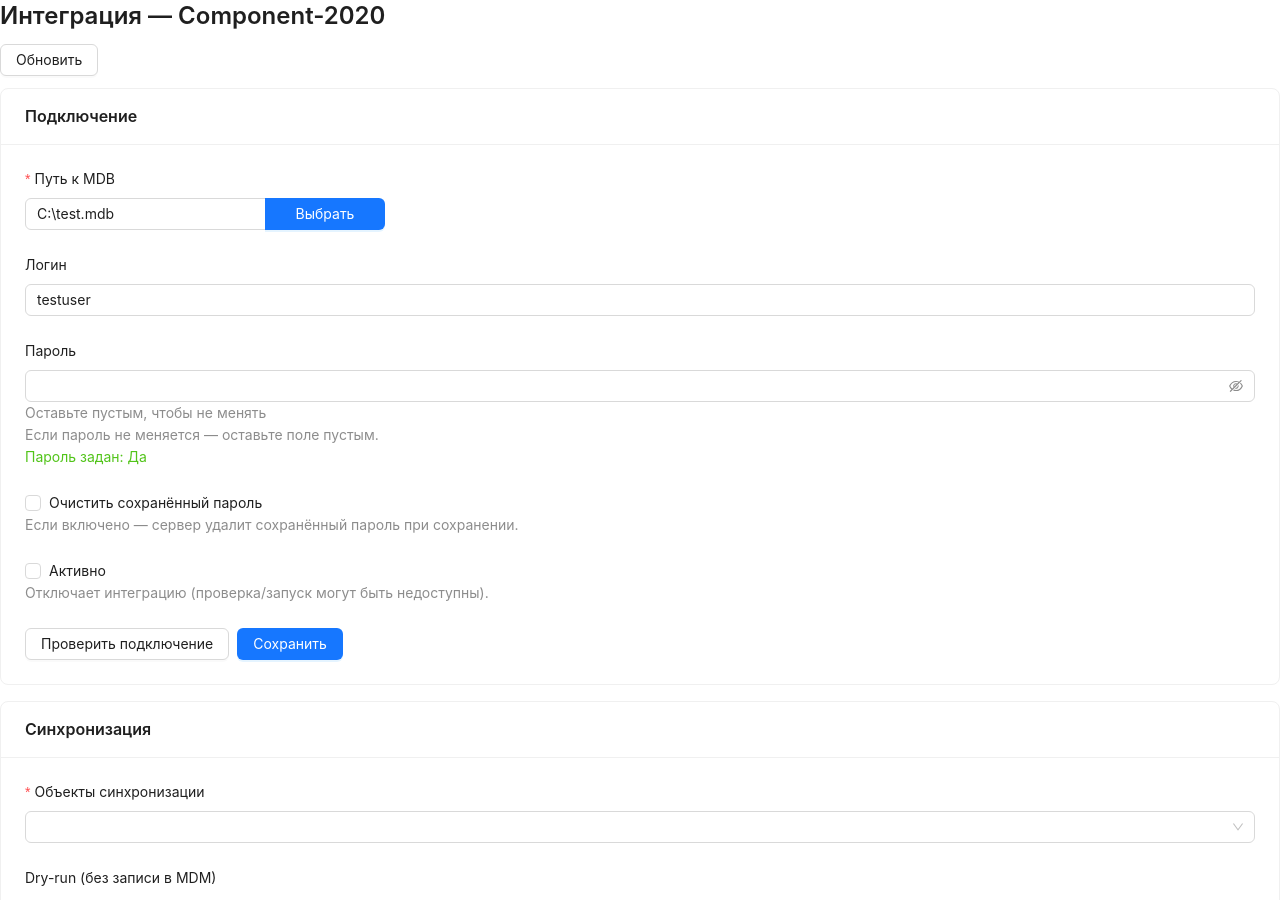
Test: Component2020SettingsPage › должна устанавливать путь к файлу при выборе через file picker
Click the button with test id "component2020-mdb-path-browse".
click(325, 214)  # box x1=265 y1=198 x2=385 y2=230
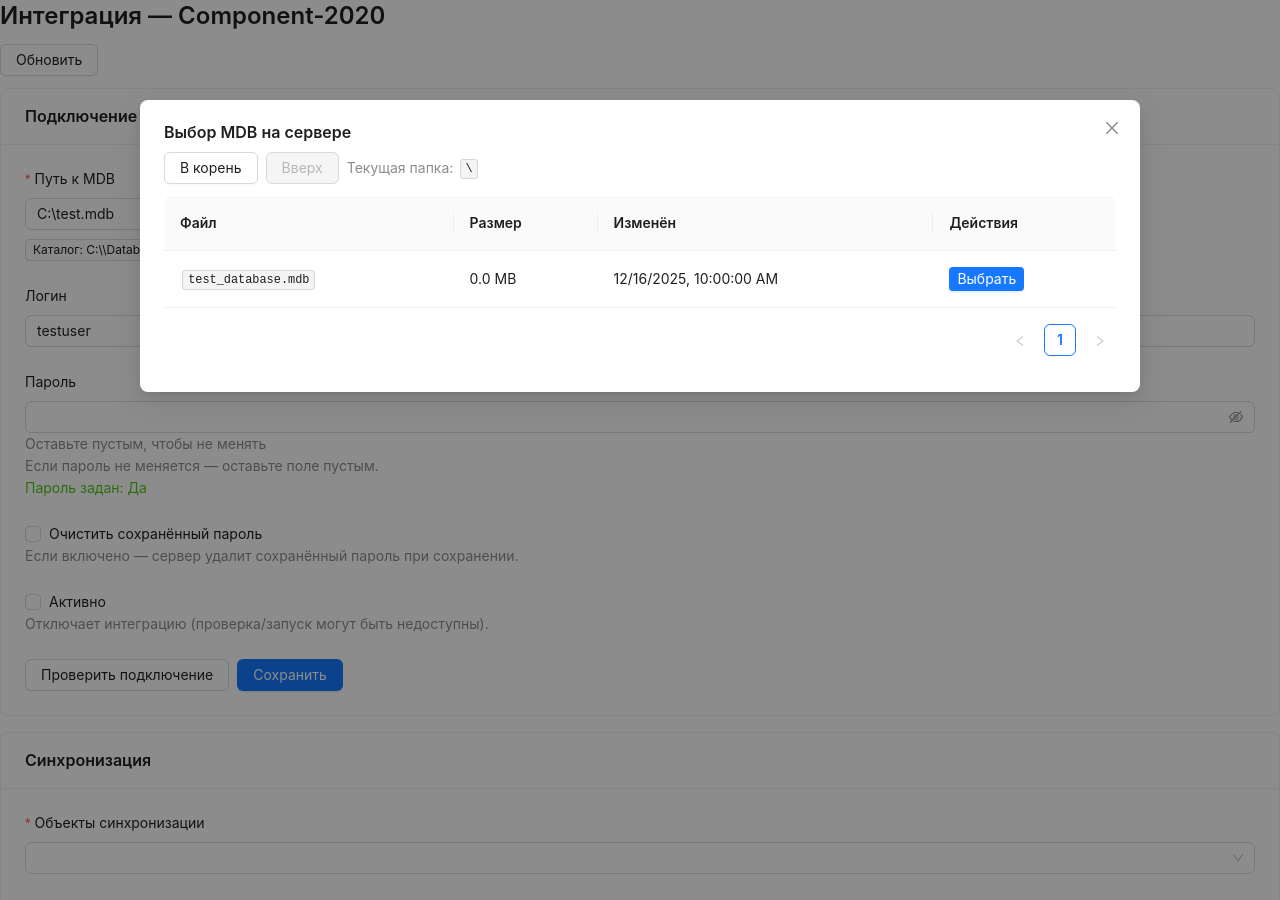
Click the button "Выбрать".
click(987, 279)  # box x1=949 y1=267 x2=1024 y2=291
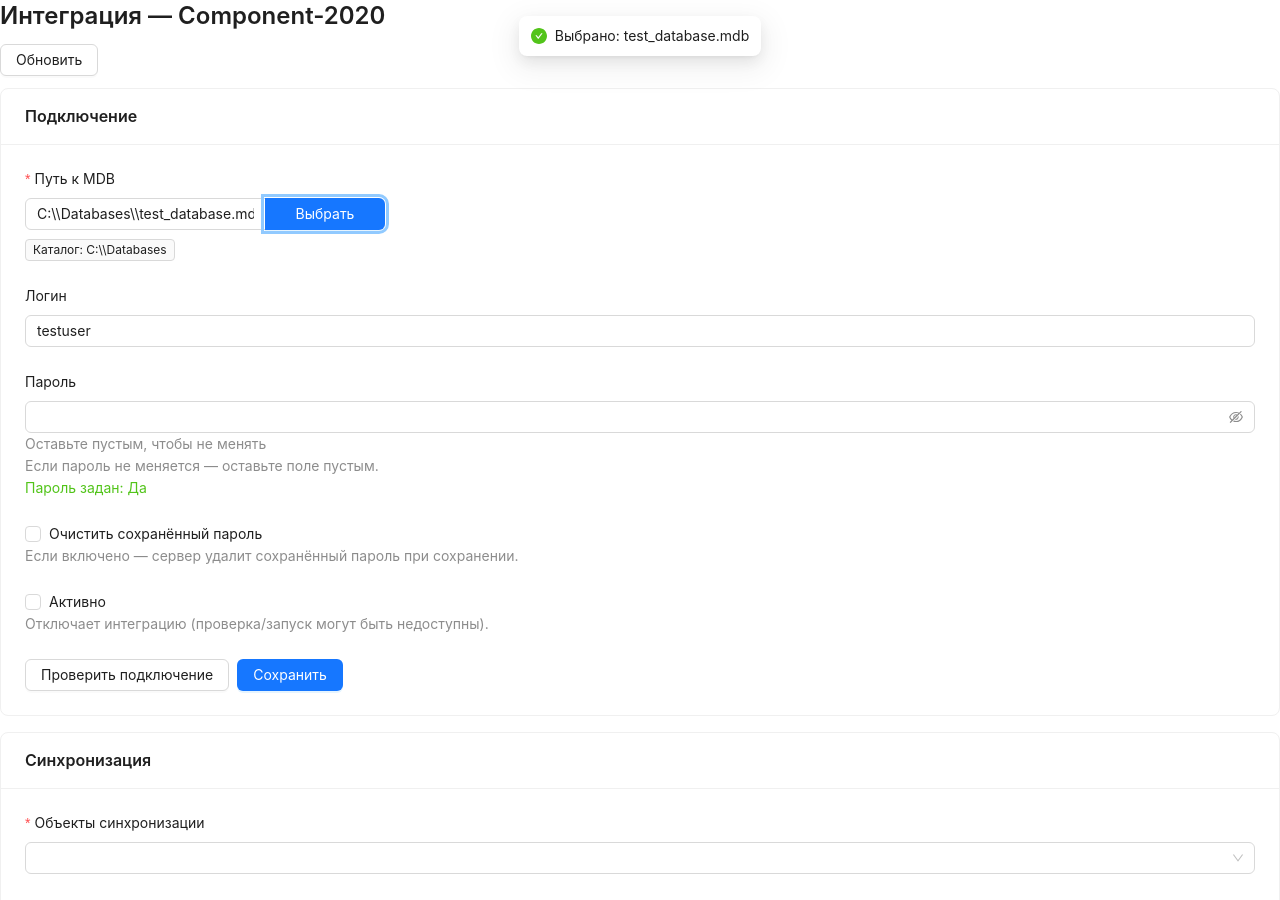
Expected: the field with test id "component2020-mdb-path-input" holds "C:\\\\Databases\\\\test_database.mdb", x1=25 y1=198 x2=266 y2=230
